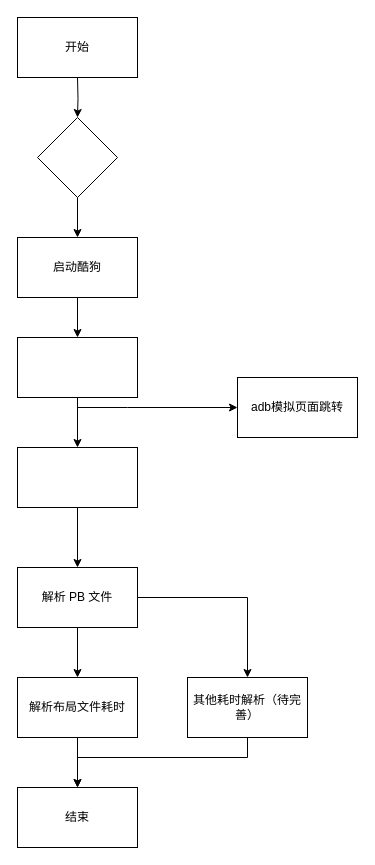
Image size: 375x865. Some labels were removed from this diagram. Here are the shapes that lost their labels. From the top down, the centre of each, then its label:
At (x=77, y=157): "检查环境是否满足".
At (x=77, y=367): "执行 Btrace".
At (x=77, y=477): "BTrace 执行结束".
